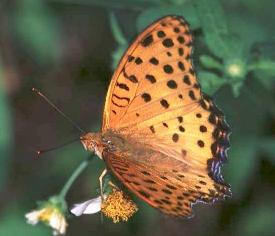Argyreus hyperbius: (26, 10, 235, 220)
butterfly: (28, 12, 237, 222)
